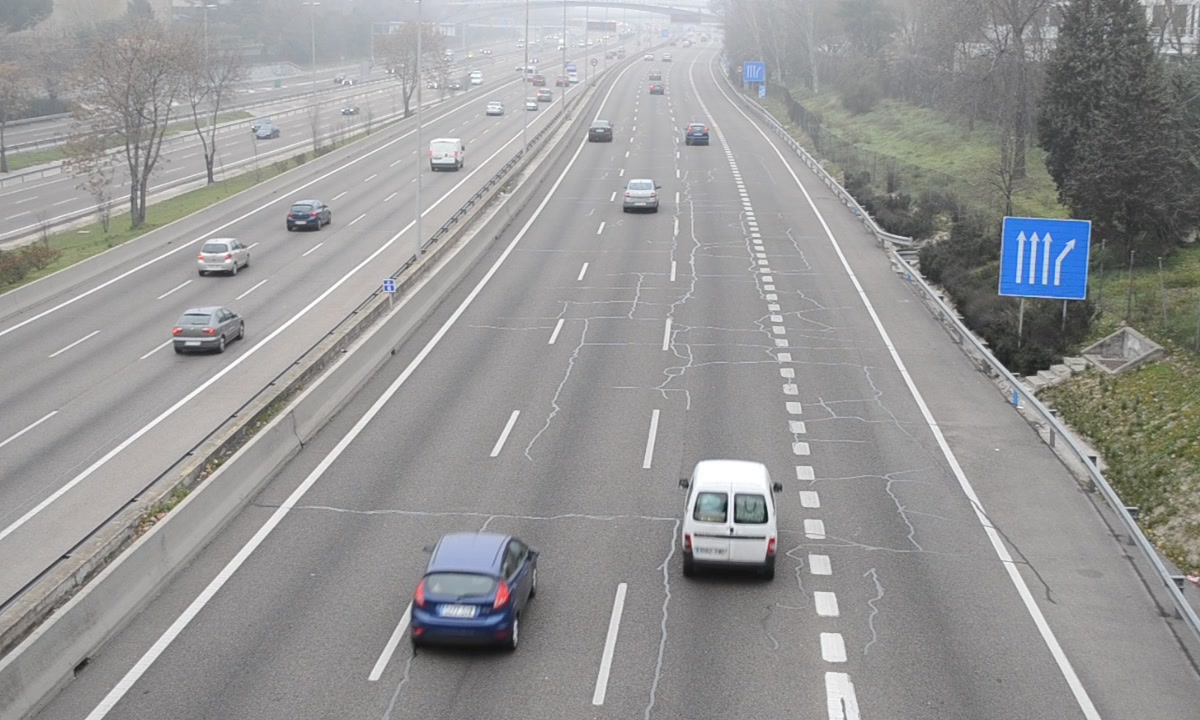car: (413, 532, 537, 646), (623, 178, 657, 211), (588, 119, 614, 142), (685, 122, 709, 145)
van: (684, 460, 778, 573)
